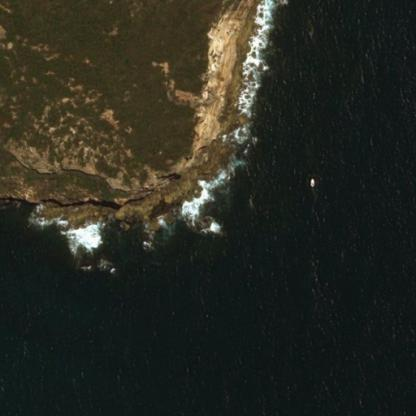ship: (292, 11, 296, 19)
